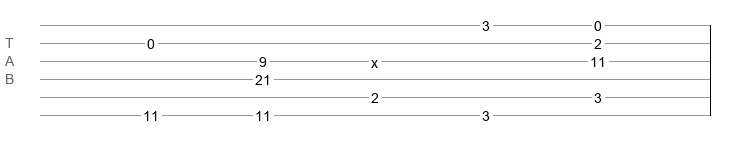0: (147, 36, 155, 46), (594, 18, 602, 28)
11: (143, 108, 159, 118), (255, 108, 271, 118), (590, 54, 606, 64)
2: (371, 90, 379, 100), (594, 36, 602, 46)
21: (255, 72, 271, 82)
3: (482, 108, 490, 118), (482, 18, 490, 28), (594, 90, 602, 100)
9: (259, 54, 267, 64)
x: (371, 55, 378, 63)
